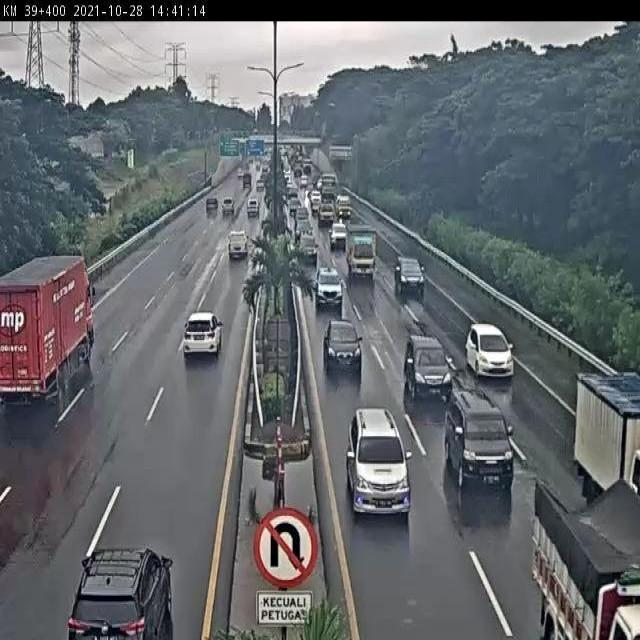car: (343, 408, 411, 520), (442, 388, 514, 491), (403, 334, 455, 398), (465, 320, 517, 380), (181, 311, 224, 361), (322, 316, 360, 369), (313, 264, 345, 311), (391, 255, 425, 292), (296, 232, 320, 264), (225, 232, 247, 260)
mid truck: (0, 253, 91, 407)
truck-m-: (344, 224, 374, 276)
